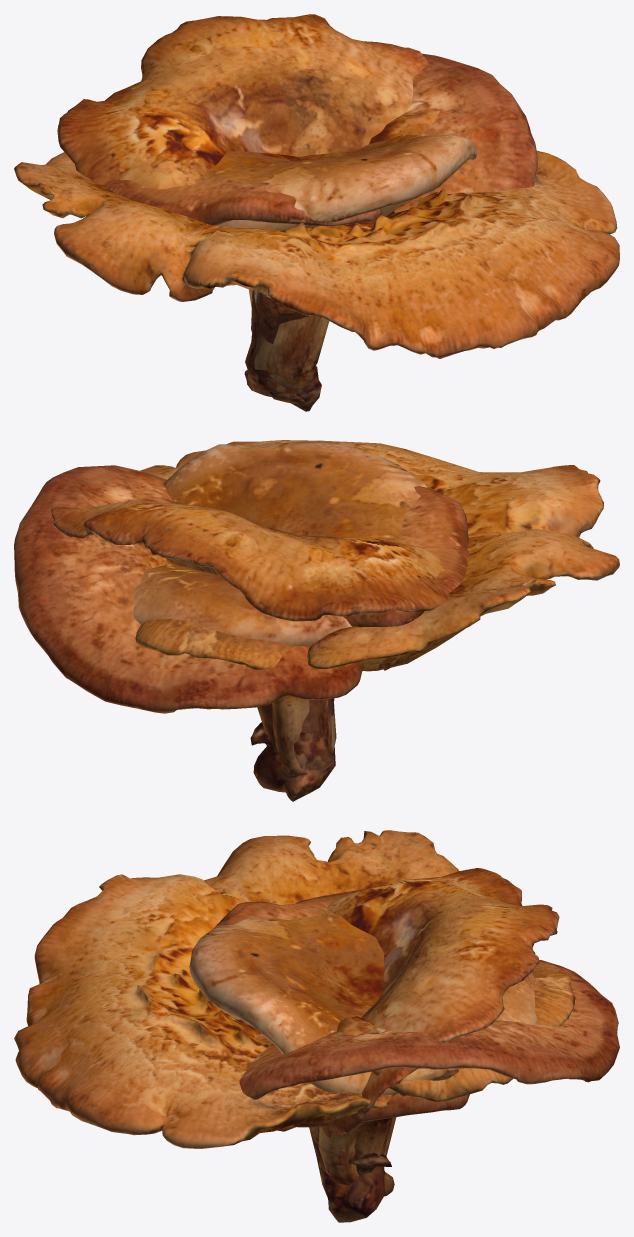
File: scatter_mushroom_set_rlms3_mid.glb
The picture shows the model from 3 angles, top to bottom: view 1: azimuth 30°, elevation 25°; view 2: azimuth 150°, elevation 25°; view 3: azimuth 270°, elevation 25°; orthographic projection. The views are drawn at different scales.
Parts seen in each view (by area): view 1: rlms3_LOD0_TIER2_000, rlms3_LOD0_TIER2_002, rlms3_LOD0_TIER2_003, rlms3_LOD0_TIER2_001, rlms3_LOD0_TIER2_004; view 2: rlms3_LOD0_TIER2_001, rlms3_LOD0_TIER2_000, rlms3_LOD0_TIER2_003, rlms3_LOD0_TIER2_002, rlms3_LOD0_TIER2_004; view 3: rlms3_LOD0_TIER2_000, rlms3_LOD0_TIER2_002, rlms3_LOD0_TIER2_003, rlms3_LOD0_TIER2_001, rlms3_LOD0_TIER2_004.
Boxes of the visible parts, x1=… form: rlms3_LOD0_TIER2_000: x1=14, y1=110, x2=619, y2=396; rlms3_LOD0_TIER2_002: x1=57, y1=14, x2=429, y2=331; rlms3_LOD0_TIER2_003: x1=195, y1=134, x2=477, y2=411; rlms3_LOD0_TIER2_001: x1=103, y1=53, x2=537, y2=403; rlms3_LOD0_TIER2_004: x1=248, y1=289, x2=329, y2=369; rlms3_LOD0_TIER2_001: x1=14, y1=465, x2=469, y2=780; rlms3_LOD0_TIER2_000: x1=134, y1=440, x2=619, y2=801; rlms3_LOD0_TIER2_003: x1=133, y1=441, x2=427, y2=792; rlms3_LOD0_TIER2_002: x1=51, y1=500, x2=449, y2=778; rlms3_LOD0_TIER2_004: x1=271, y1=695, x2=309, y2=777; rlms3_LOD0_TIER2_000: x1=14, y1=830, x2=575, y2=1196; rlms3_LOD0_TIER2_002: x1=189, y1=868, x2=559, y2=1175; rlms3_LOD0_TIER2_003: x1=189, y1=909, x2=536, y2=1222; rlms3_LOD0_TIER2_001: x1=215, y1=888, x2=619, y2=1175; rlms3_LOD0_TIER2_004: x1=292, y1=1093, x2=469, y2=1185.
Size of the model in its own units: 0.22 by 0.1284 by 0.2267.
1 material, 1 textured.
